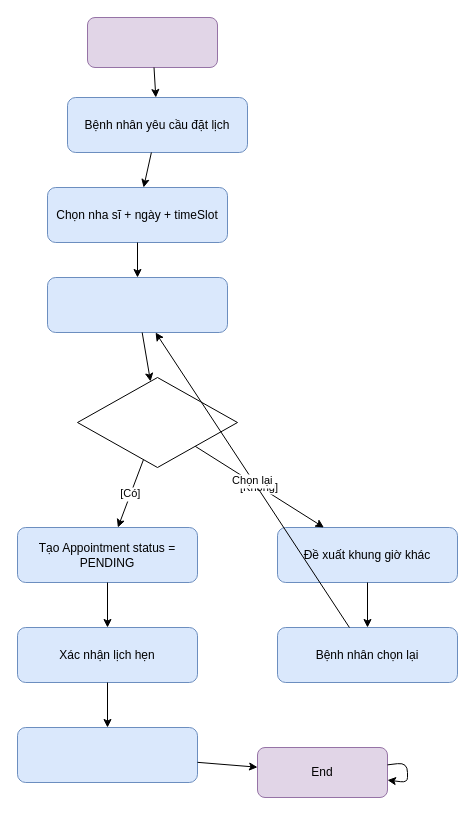
The diagram is 475 pixels wide and 815 high, and some of its shapes have lost their labels. Each missing label, with the centre of its shape:
"Có slot trống?" goes at (x=157, y=422).
"Gửi SMS nhắc hẹn" goes at (x=107, y=754).
"Lễ tân kiểm tra lịch trống" goes at (x=137, y=304).
"Start" goes at (x=152, y=42).
